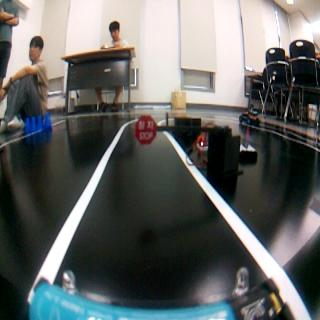stop: (134, 114, 157, 144)
